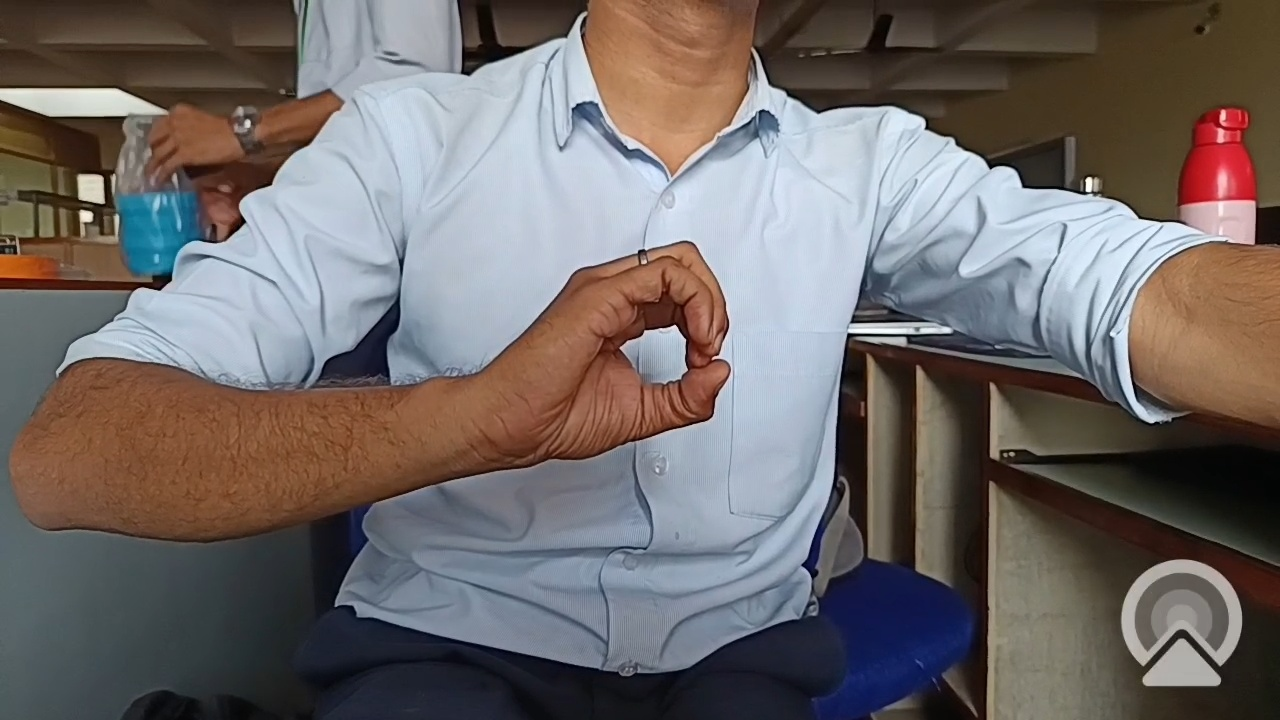O: (485, 230, 776, 486)
